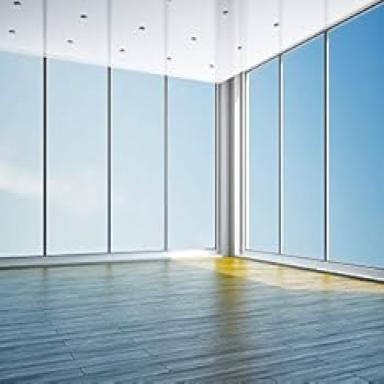glass_panel: (329, 3, 384, 272), (48, 61, 106, 254), (112, 70, 163, 250), (284, 35, 324, 259), (0, 53, 42, 255), (169, 78, 215, 250), (248, 59, 279, 254), (168, 0, 215, 77), (46, 0, 105, 61), (111, 0, 164, 67), (244, 0, 280, 71), (0, 0, 41, 53), (281, 0, 326, 48), (218, 0, 238, 79), (232, 76, 240, 252)
